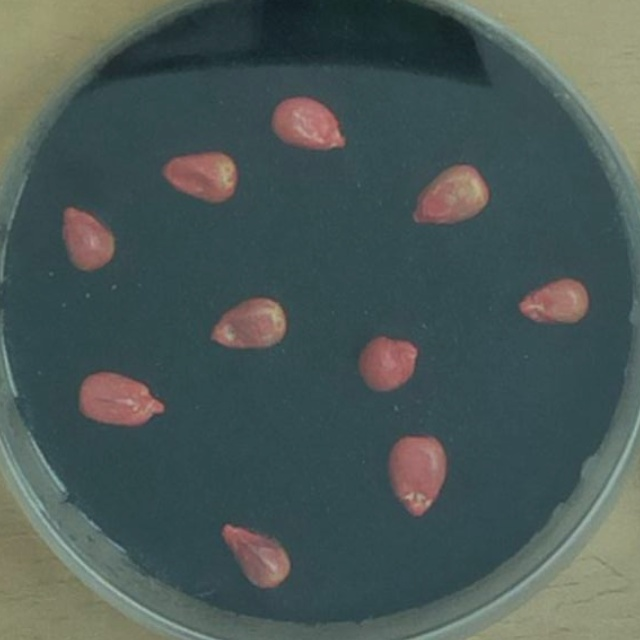Zea mays: (401, 155, 497, 235), (378, 426, 454, 525), (69, 364, 173, 436), (212, 516, 298, 596), (200, 288, 294, 357), (262, 89, 353, 160), (154, 143, 246, 213), (51, 199, 124, 279), (350, 327, 427, 401), (509, 271, 594, 334)
